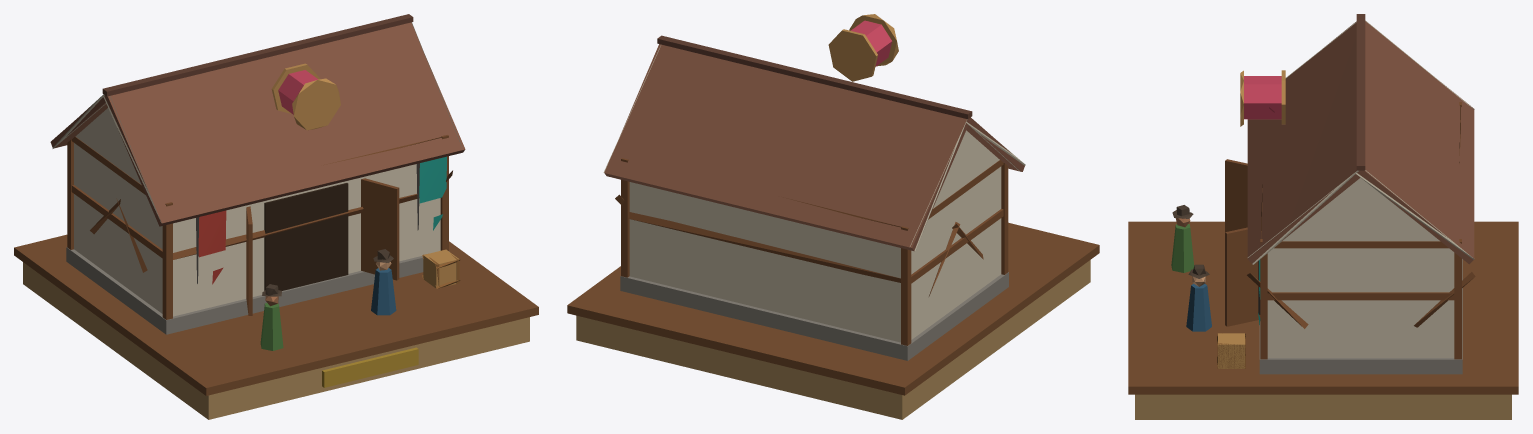
Rendered from craft_hall_souvenir.glb.
3 views of the same model, side by side, from view 1: azimuth 30°, elevation 25°; view 2: azimuth 150°, elevation 25°; view 3: azimuth 270°, elevation 25° (orthographic).
Visible parts, largest first — view 1: decor-craft_hall_souvenir; view 2: decor-craft_hall_souvenir; view 3: decor-craft_hall_souvenir.
Boxes of the visible parts, x1=… form: decor-craft_hall_souvenir: x1=14, y1=14, x2=538, y2=419; decor-craft_hall_souvenir: x1=567, y1=14, x2=1099, y2=419; decor-craft_hall_souvenir: x1=1128, y1=14, x2=1518, y2=419.
Bounding box in the file's own units: 1.76 × 1.33 × 1.76.
